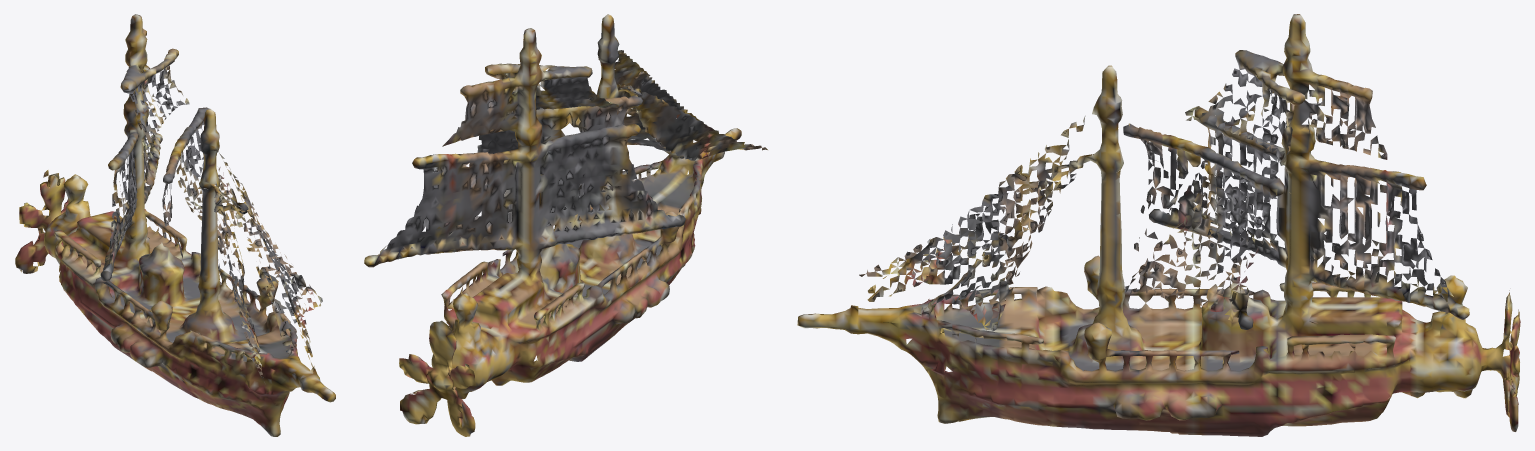
File: mon3d.glb
The picture shows the model from 3 angles, left to right: view 1: azimuth 30°, elevation 25°; view 2: azimuth 150°, elevation 25°; view 3: azimuth 270°, elevation 25°; orthographic projection. The views are drawn at different scales.
Bounding box in the file's own units: 0.7172 × 1.24 × 1.95.
